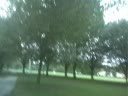window: (89, 38, 101, 62), (92, 84, 106, 96), (68, 49, 77, 66), (67, 87, 77, 96)
